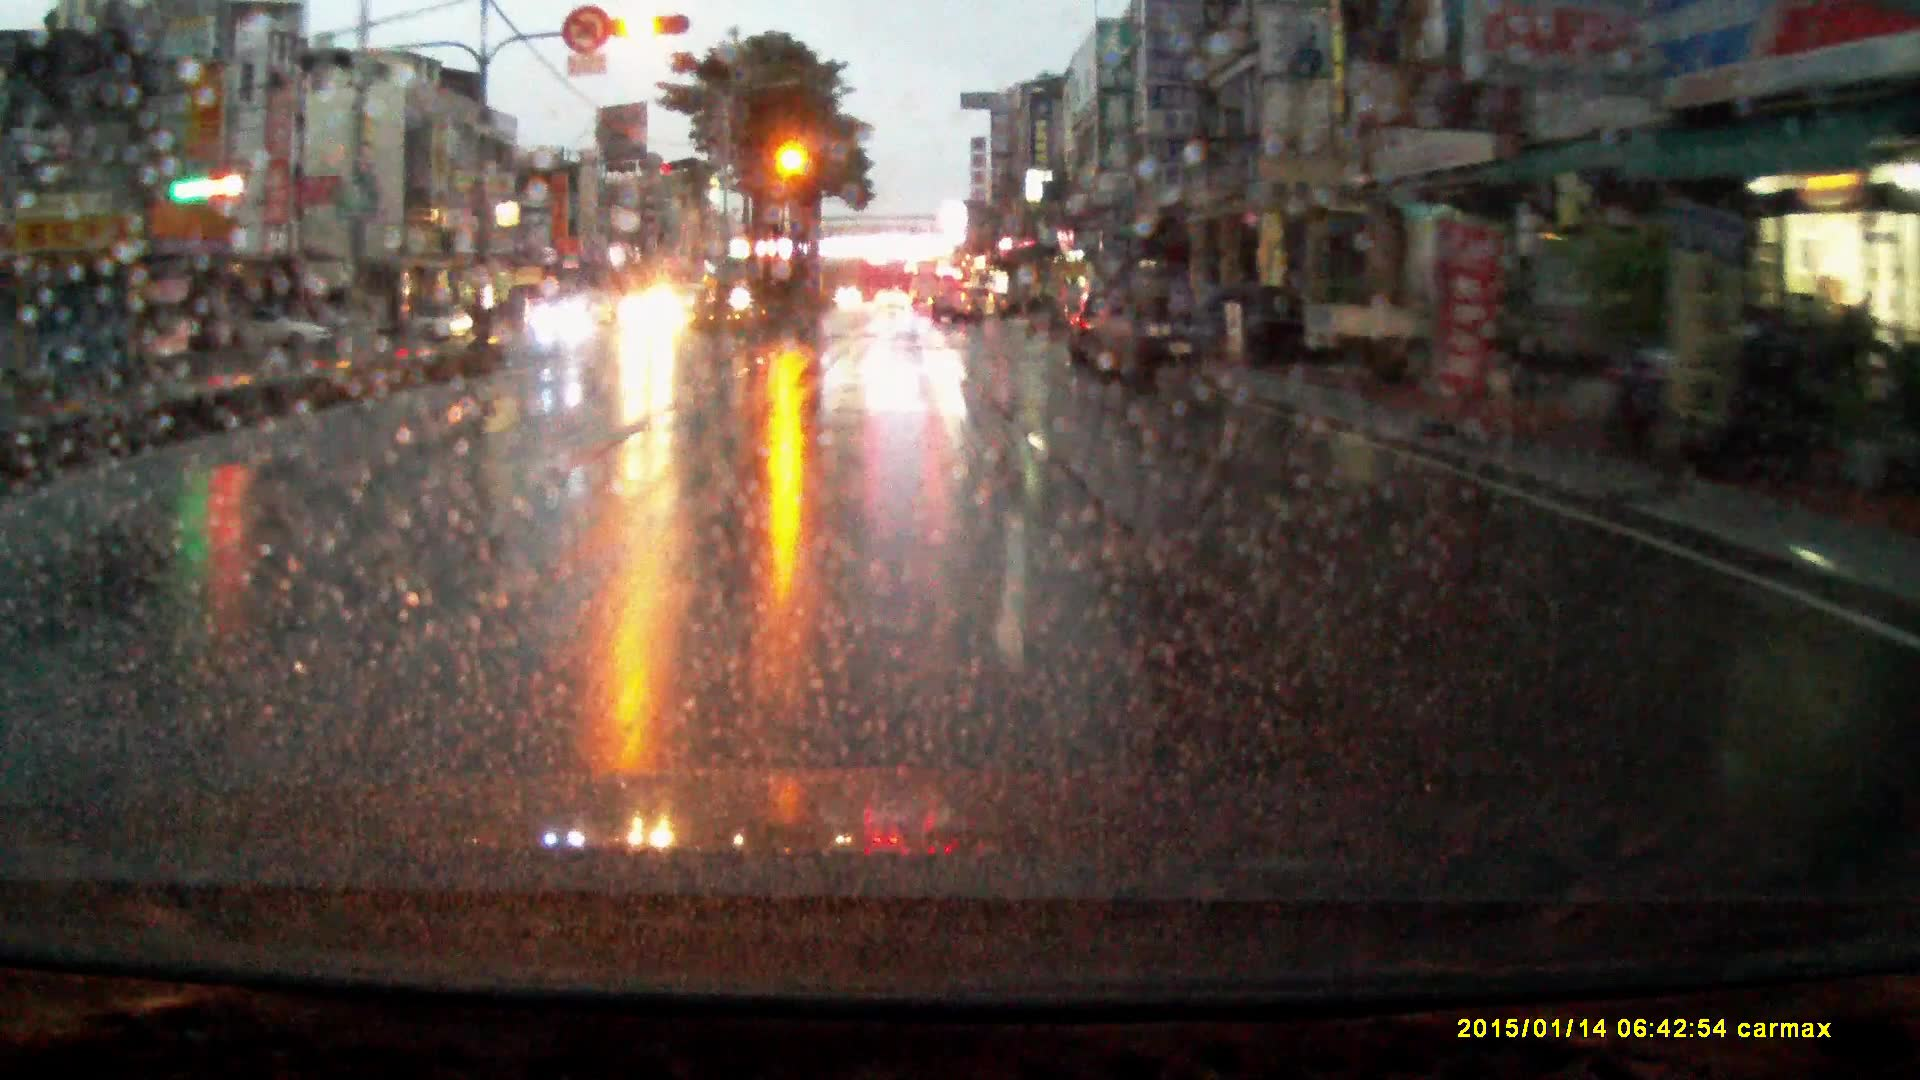vehicle: (1096, 270, 1233, 394), (1304, 310, 1466, 372), (212, 313, 326, 357), (613, 291, 688, 345), (1069, 281, 1108, 375), (305, 313, 381, 353), (932, 285, 997, 330), (411, 303, 473, 345), (535, 302, 597, 344), (911, 266, 944, 310), (876, 294, 913, 318)
